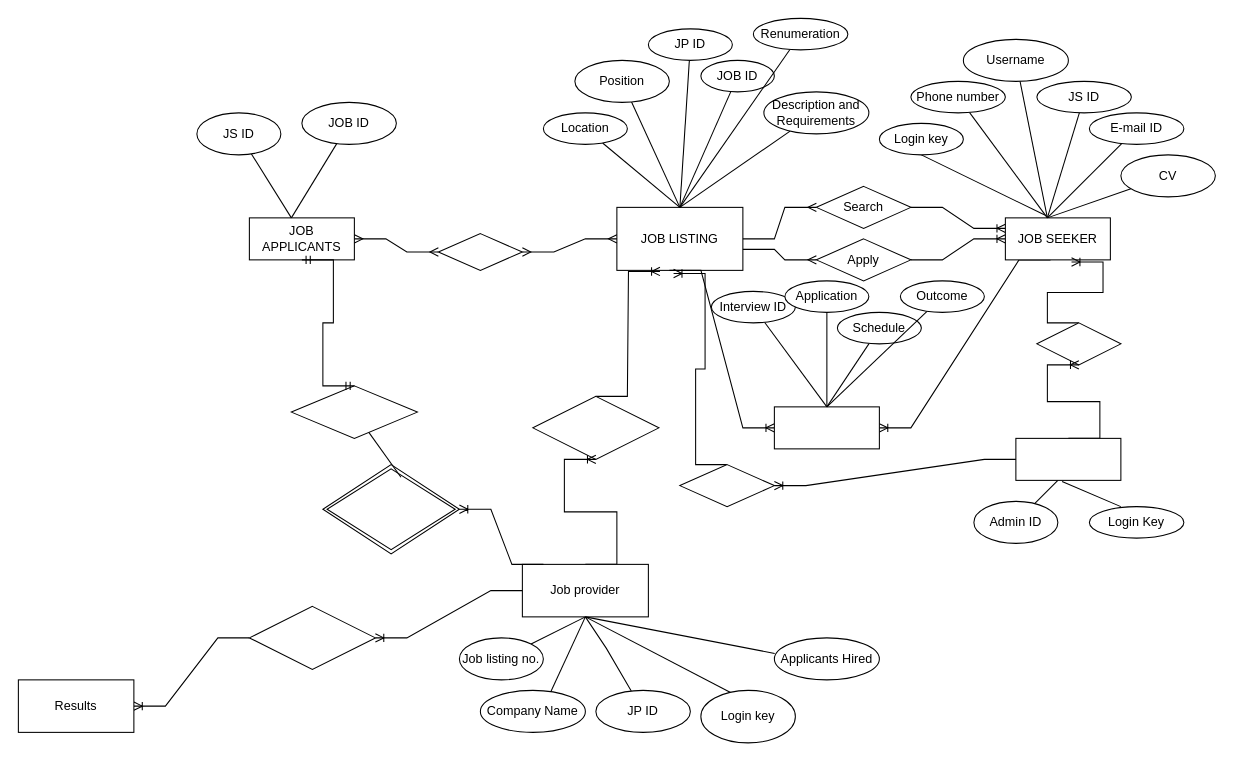
Image size: 1234x761. Some labels were removed from this diagram. Each missing label, with the box of its shape:
Admin: (1015, 437, 1121, 480)
Contains: (437, 233, 522, 270)
Edit and update: (679, 464, 774, 507)
Hire: (290, 385, 417, 438)
Interview: (773, 406, 879, 449)
Moderate: (1036, 322, 1121, 365)
Post: (532, 395, 659, 459)
Publish: (248, 605, 375, 669)
Screen applicants and Schedule Interviews: (322, 464, 459, 554)
